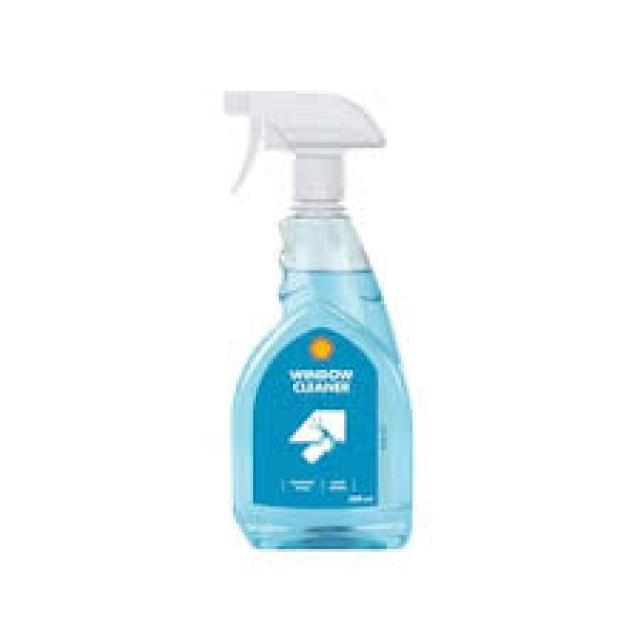winwinshield_washer: (217, 85, 417, 555)
